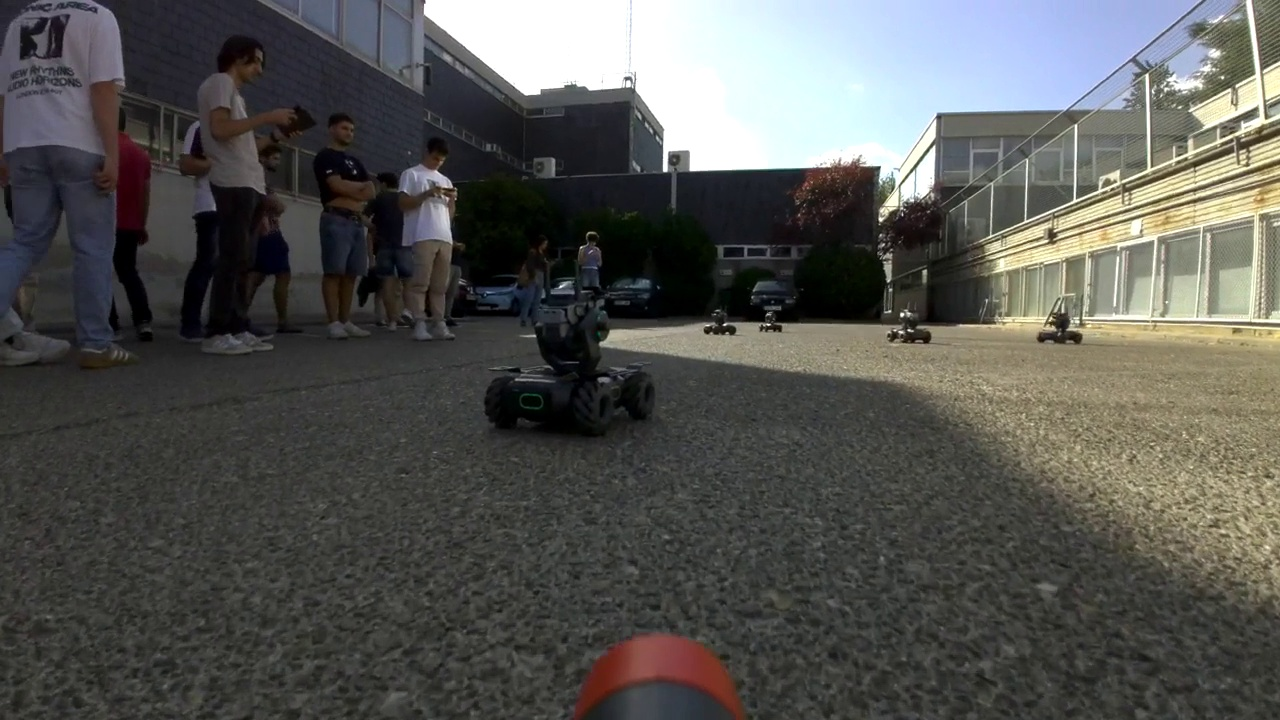robot: (483, 258, 655, 437), (1036, 298, 1086, 347), (885, 300, 931, 346), (704, 300, 737, 337), (758, 305, 782, 334)
